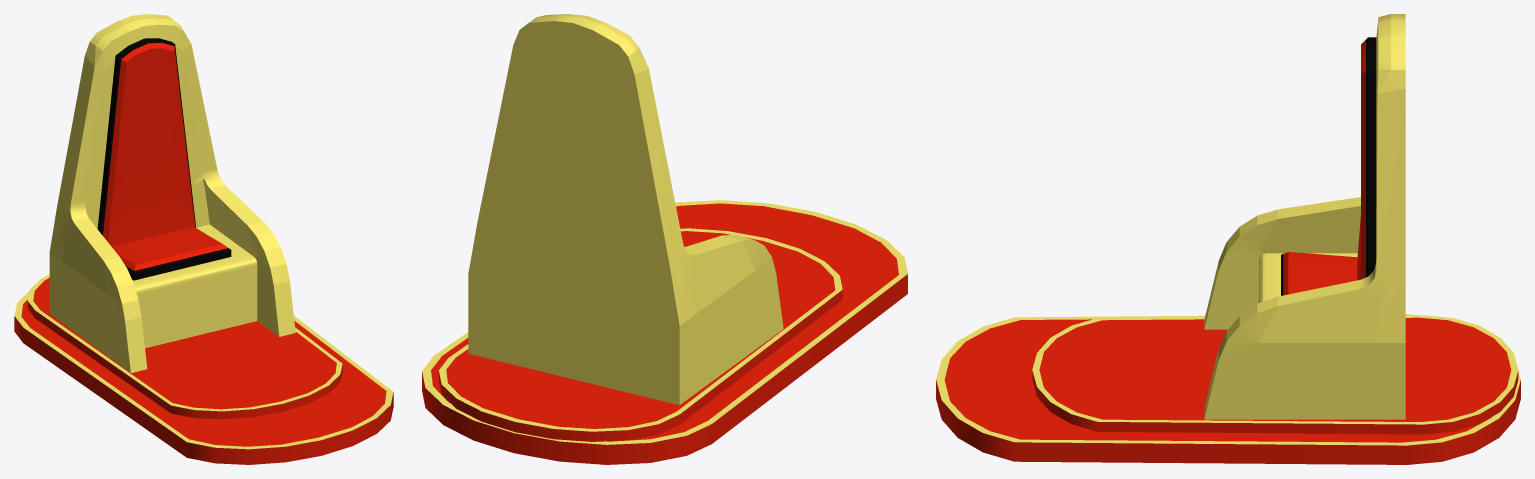
The model's file is Trono Regina.fbx.
3 views of the same model, side by side, from view 1: azimuth 30°, elevation 25°; view 2: azimuth 150°, elevation 25°; view 3: azimuth 270°, elevation 25° (orthographic). The views are drawn at different scales.
Parts seen in each view (by area): view 1: pCube5, pCylinder7, pCylinder6; view 2: pCube5, pCylinder7, pCylinder6; view 3: pCube5, pCylinder6, pCylinder7.
Part boxes in pixels (x1=…): pCube5: x1=49, y1=14, x2=295, y2=372; pCylinder7: x1=14, y1=291, x2=393, y2=464; pCylinder6: x1=27, y1=274, x2=342, y2=419; pCube5: x1=468, y1=14, x2=783, y2=405; pCylinder7: x1=422, y1=200, x2=907, y2=464; pCylinder6: x1=438, y1=228, x2=842, y2=441; pCube5: x1=1204, y1=14, x2=1405, y2=419; pCylinder6: x1=1032, y1=315, x2=1518, y2=434; pCylinder7: x1=936, y1=314, x2=1520, y2=464.
Bounding box in the file's own units: 4.52 × 6 × 8.51.
